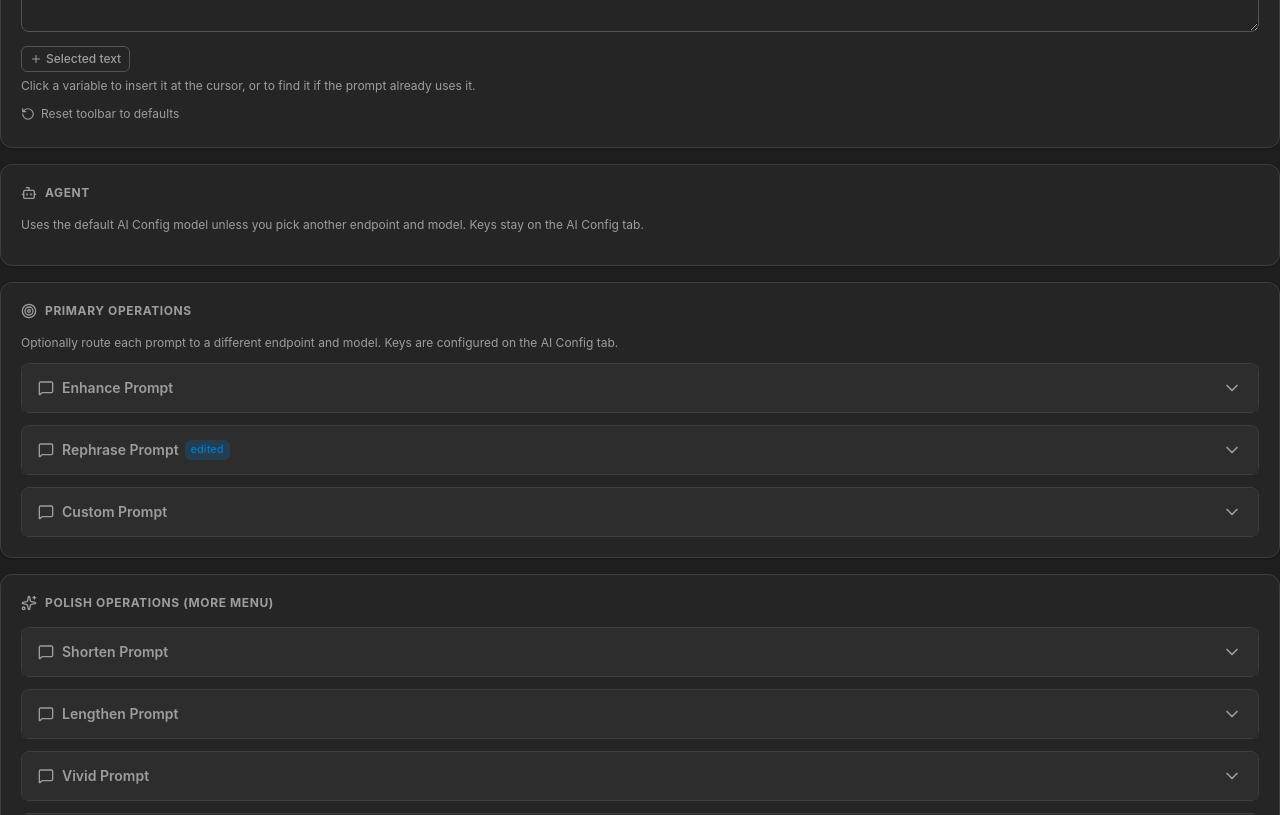
Test: prompt reset › marks only edited toolbar prompts and resets one after confirming
(page scrolled)
Expected: the text "Enhance Prompt" does not show "edited"
Click the button "Rephrase Prompt edited": (120, 450) [22, 426, 1258, 474]
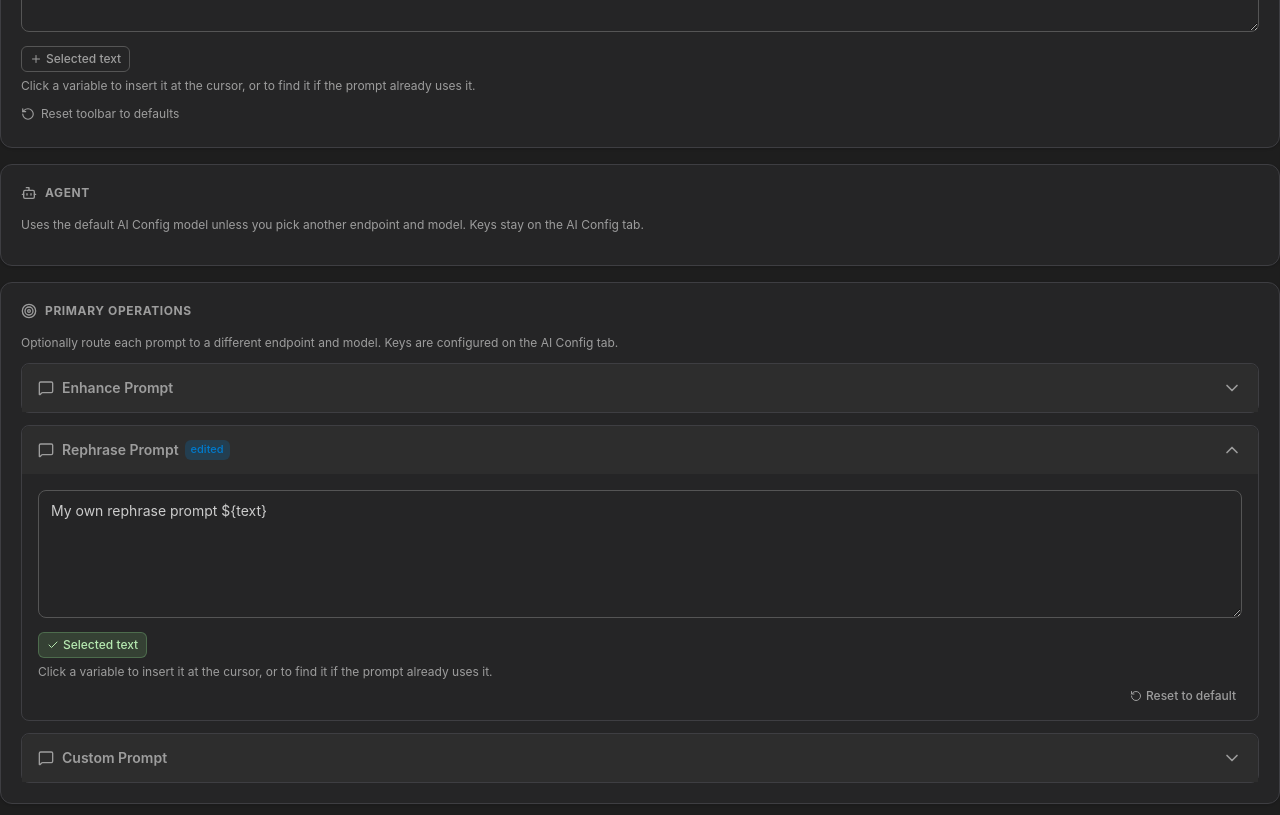
Click the button "Reset to default": (1183, 696) [1124, 686, 1242, 706]
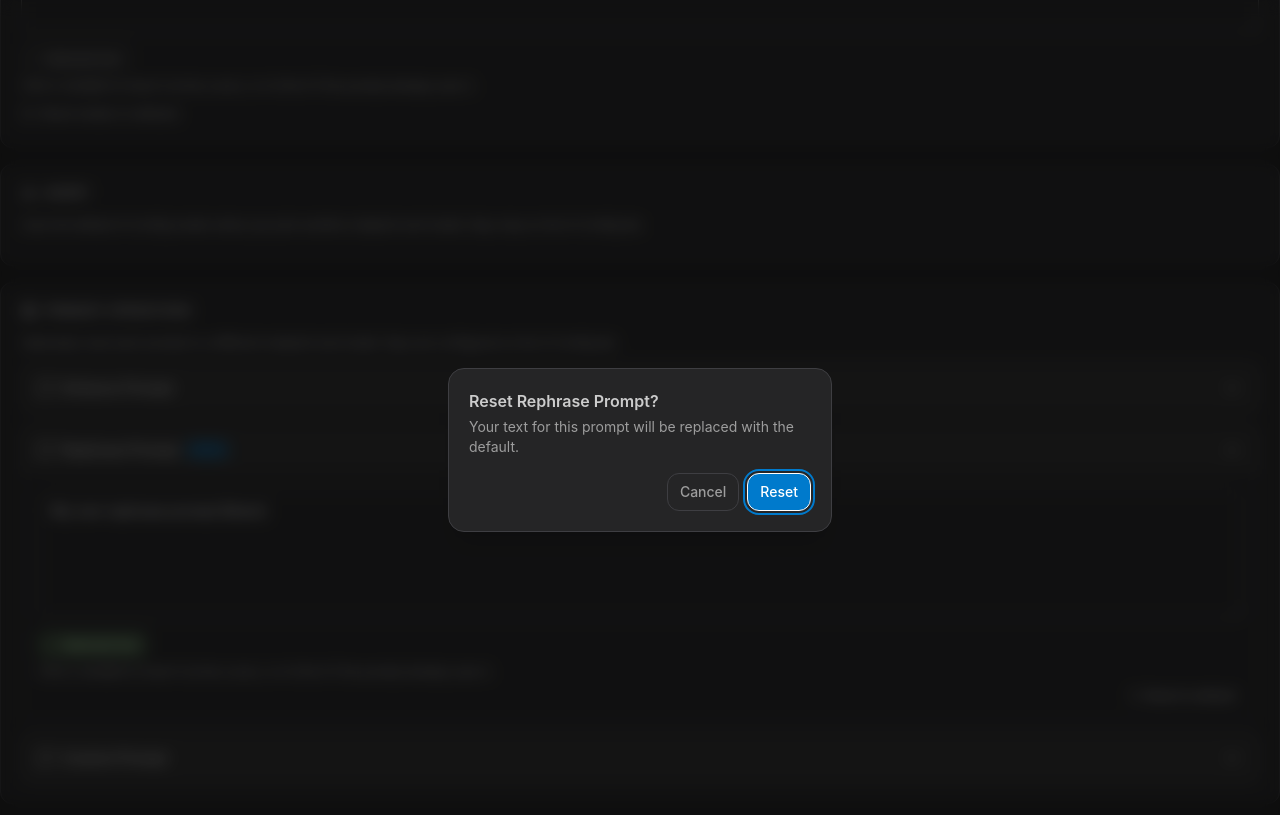
Click the button "Cancel": (703, 492) [667, 473, 739, 511]
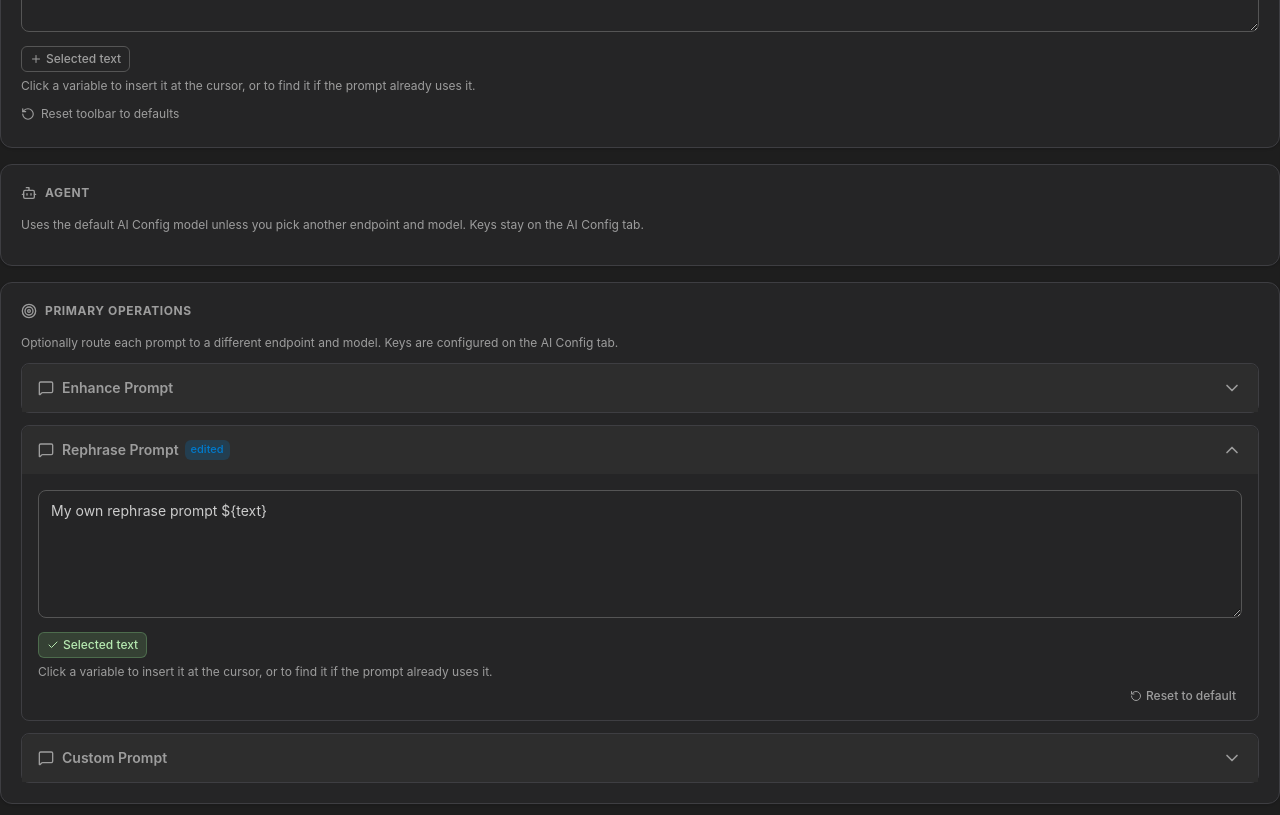
Now the text box showing "My own rephrase prompt ${text}" is shown, box [38, 490, 1242, 618]
Click the button "Reset to default": (1183, 696) [1124, 686, 1242, 706]
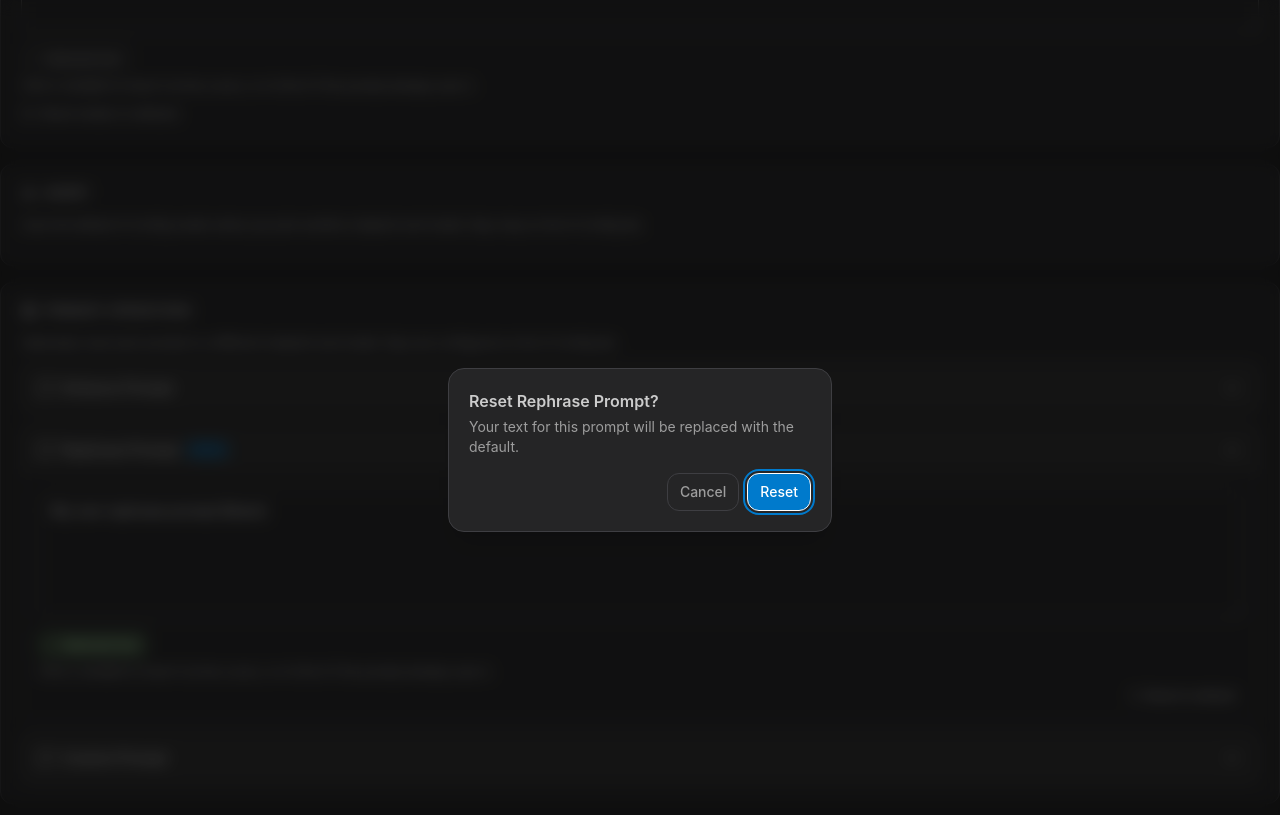
Click the button "Reset": (779, 492) [747, 473, 811, 511]
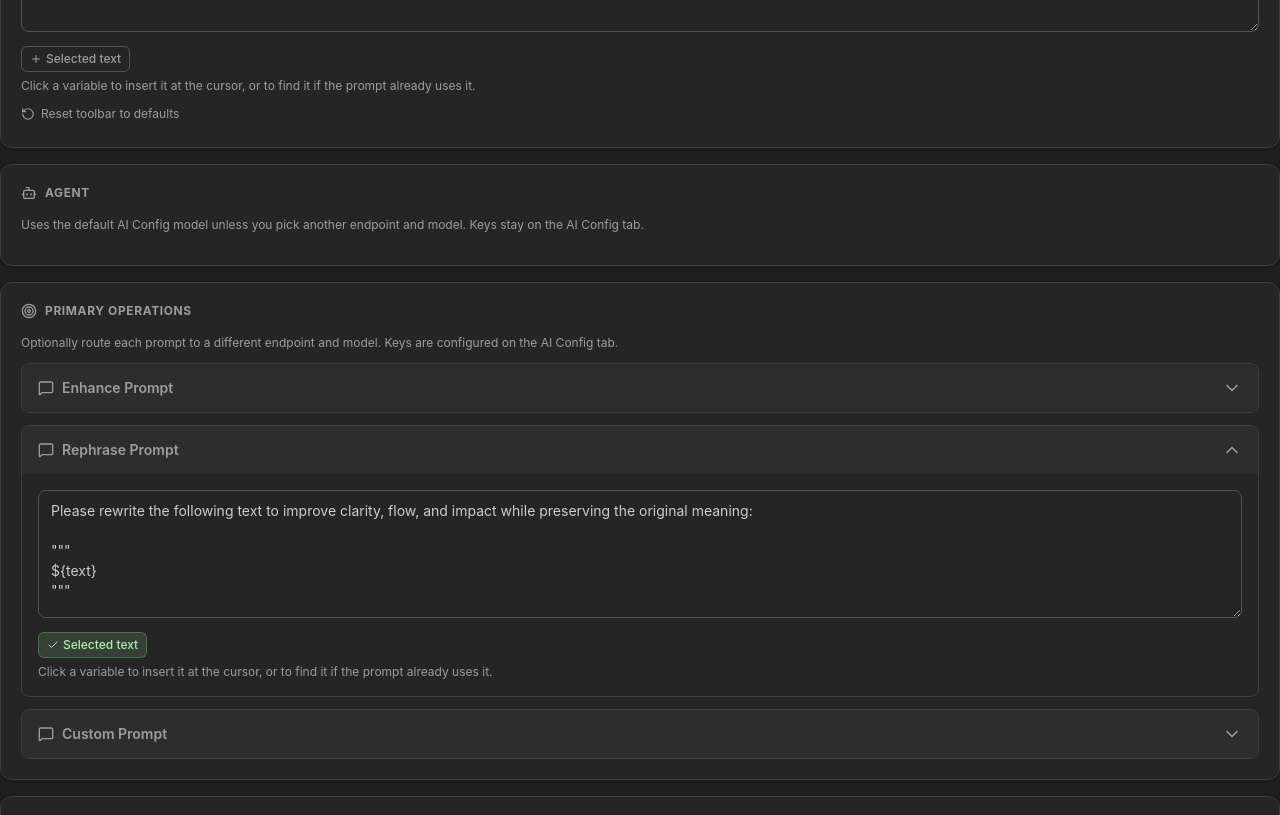
Now the text "Rephrase Prompt" no longer shows "edited"
Now the button "Reset to default" is gone
